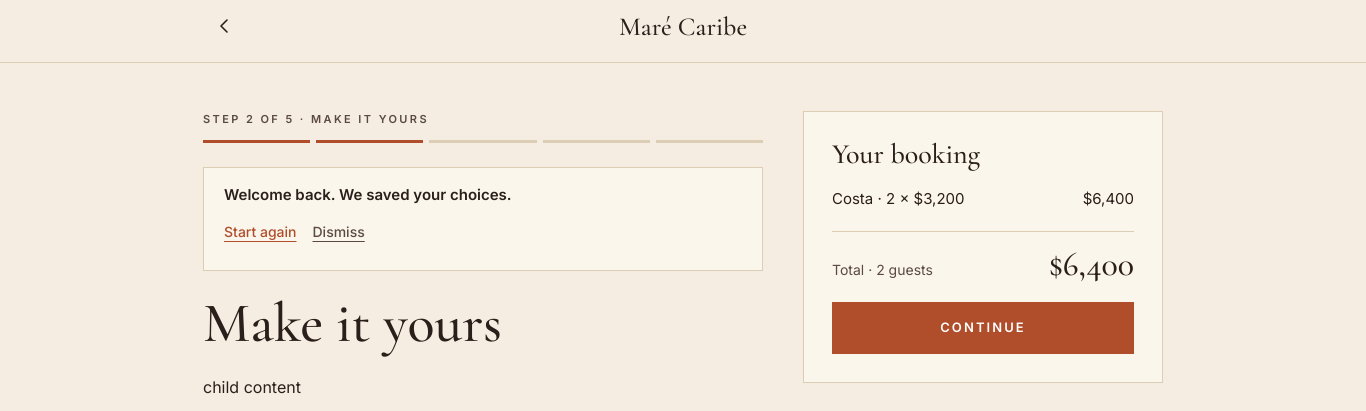
StepFrame › welcome-back banner › shows on steps 1 and 2 for a returning visitor, and can be dismissed
Expected: the message shows "Welcome back. We saved your choices.", x1=224 y1=184 x2=512 y2=204
Click the button "Dismiss": (339, 232) x1=312 y1=210 x2=365 y2=254
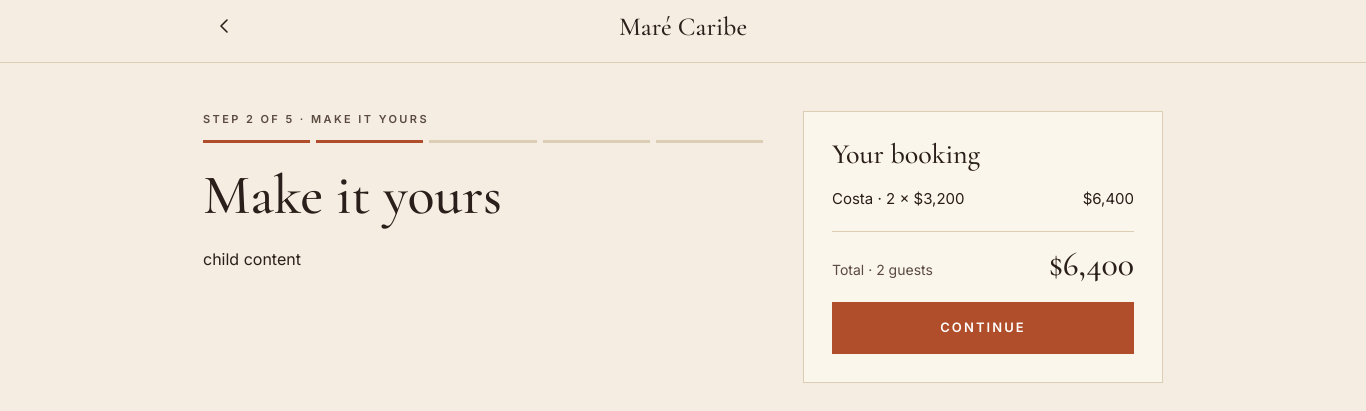
Expected: the message "Welcome back. We saved your choices. Start again Dismiss" is gone
